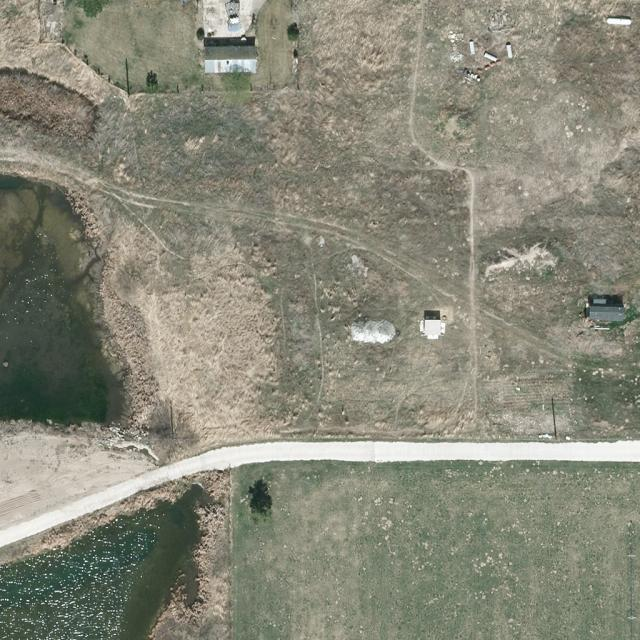vehicle: (225, 1, 243, 34)
